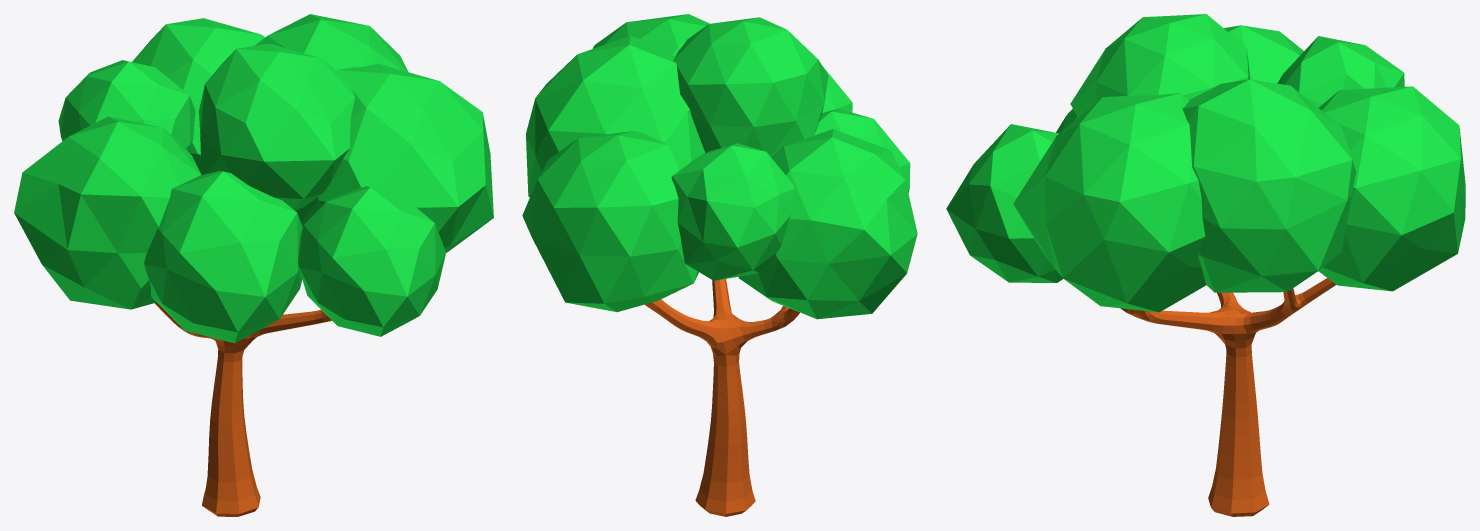
File: agacid.fbx
3 views of the same model, side by side, from view 1: azimuth 30°, elevation 25°; view 2: azimuth 150°, elevation 25°; view 3: azimuth 270°, elevation 25° (orthographic). The views are drawn at different scales.
Visible parts, largest first — view 1: Icosphere.002, Plane; view 2: Icosphere.002, Plane; view 3: Icosphere.002, Plane.
Part boxes in pixels (box(x1,y1,x2,y2)): Icosphere.002: box(14, 14, 493, 343); Plane: box(154, 302, 331, 516); Icosphere.002: box(522, 14, 917, 319); Plane: box(644, 279, 799, 516); Icosphere.002: box(946, 14, 1465, 312); Plane: box(1120, 278, 1336, 516).
Bounding box in the file's own units: 934 × 1084 × 1034.
